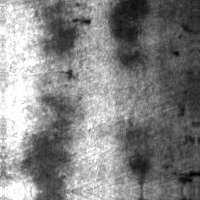patches: (21, 98, 72, 192), (38, 0, 80, 56), (118, 124, 154, 187), (106, 0, 150, 48)
